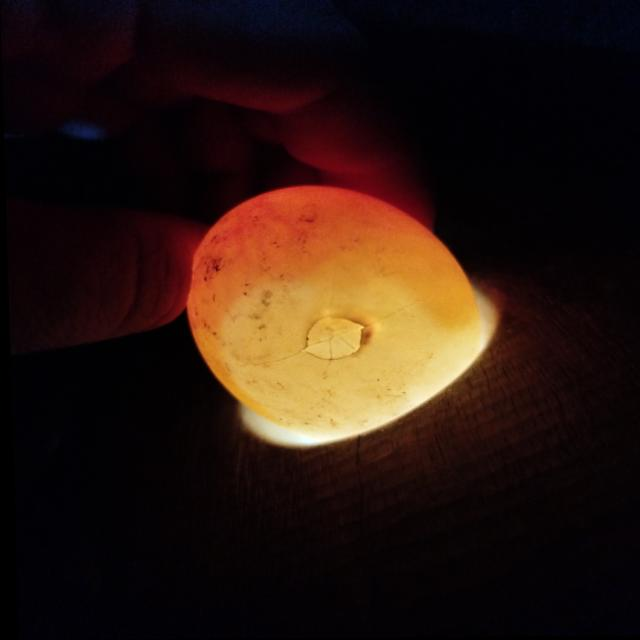Rachadura: (298, 318, 362, 360)
